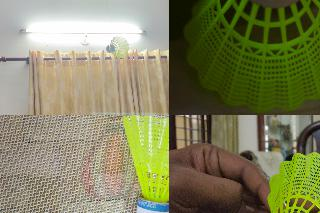shuttlecock: (184, 0, 319, 111), (121, 115, 168, 212), (267, 152, 319, 212), (105, 36, 128, 58)
